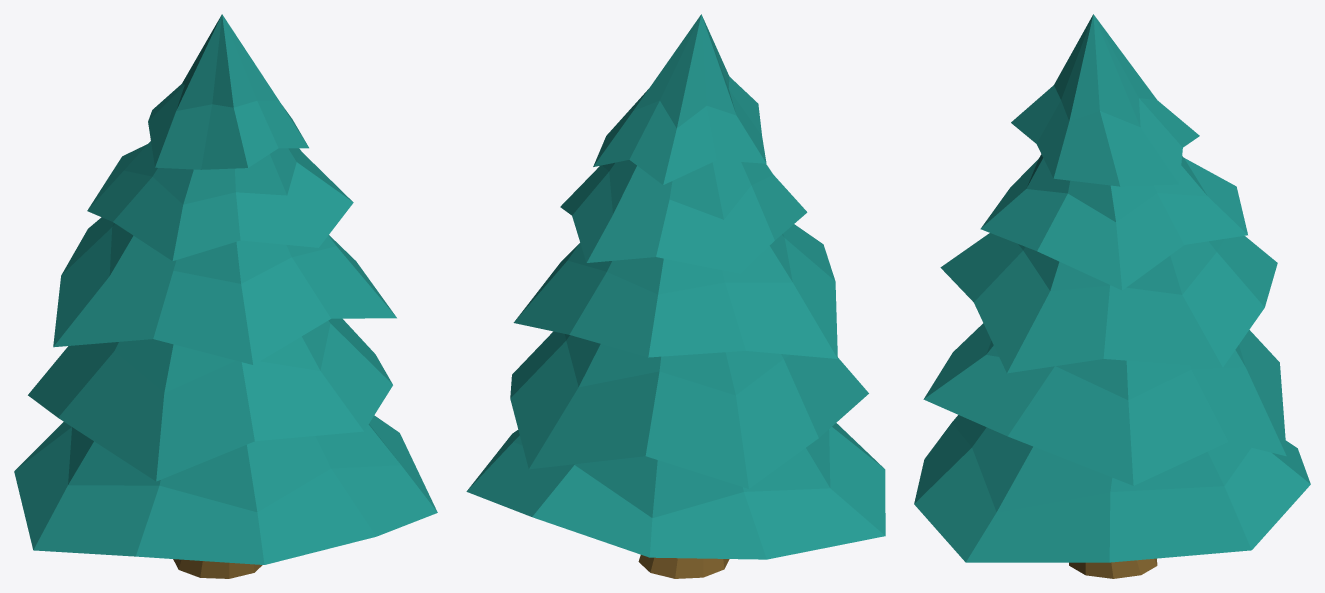
File: tree-1.glb
The picture shows the model from 3 angles, left to right: view 1: azimuth 30°, elevation 25°; view 2: azimuth 150°, elevation 25°; view 3: azimuth 270°, elevation 25°; orthographic projection. The views are drawn at different scales.
Parts seen in each view (by area): view 1: Set_03:low_poly:conifer3_Cylinder.001; view 2: Set_03:low_poly:conifer3_Cylinder.001; view 3: Set_03:low_poly:conifer3_Cylinder.001.
Part boxes in pixels (x1,y1,x2,y2): Set_03:low_poly:conifer3_Cylinder.001: (14,14,437,578); Set_03:low_poly:conifer3_Cylinder.001: (466,14,885,578); Set_03:low_poly:conifer3_Cylinder.001: (914,14,1310,578).
Size of the model in its own units: 1.32 by 1.87 by 1.24.
